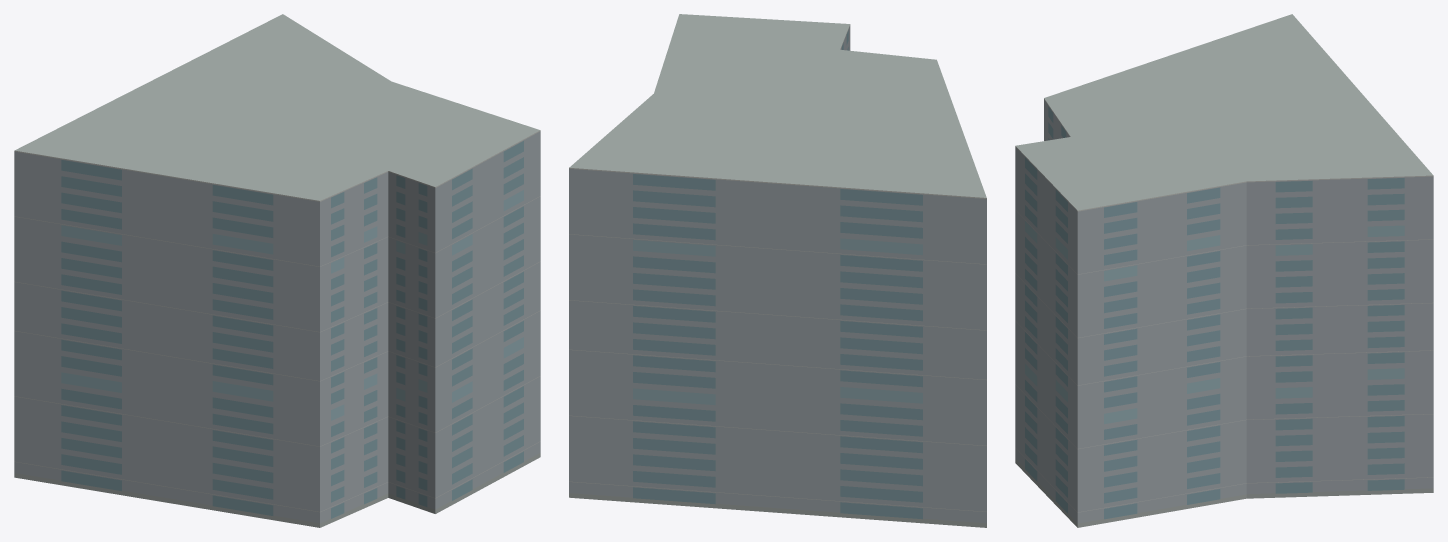
The model's file is residential-42476c7f-dba7-4876-9c8a-430bb0b48b30.glb.
3 renders of one model, left to right at view 1: azimuth 30°, elevation 25°; view 2: azimuth 150°, elevation 25°; view 3: azimuth 270°, elevation 25°, orthographic. The views are drawn at different scales.
Visible parts, largest first — view 1: residential-42476c7f-dba7-4876-9c8a-430bb0b48b30.tmp; view 2: residential-42476c7f-dba7-4876-9c8a-430bb0b48b30.tmp; view 3: residential-42476c7f-dba7-4876-9c8a-430bb0b48b30.tmp.
Part boxes in pixels (left/top/right/bottom): residential-42476c7f-dba7-4876-9c8a-430bb0b48b30.tmp: left=14, top=14, right=540, bottom=527; residential-42476c7f-dba7-4876-9c8a-430bb0b48b30.tmp: left=569, top=14, right=986, bottom=527; residential-42476c7f-dba7-4876-9c8a-430bb0b48b30.tmp: left=1015, top=14, right=1433, bottom=527.
Size of the model in its own units: 105 by 79 by 94.44.
